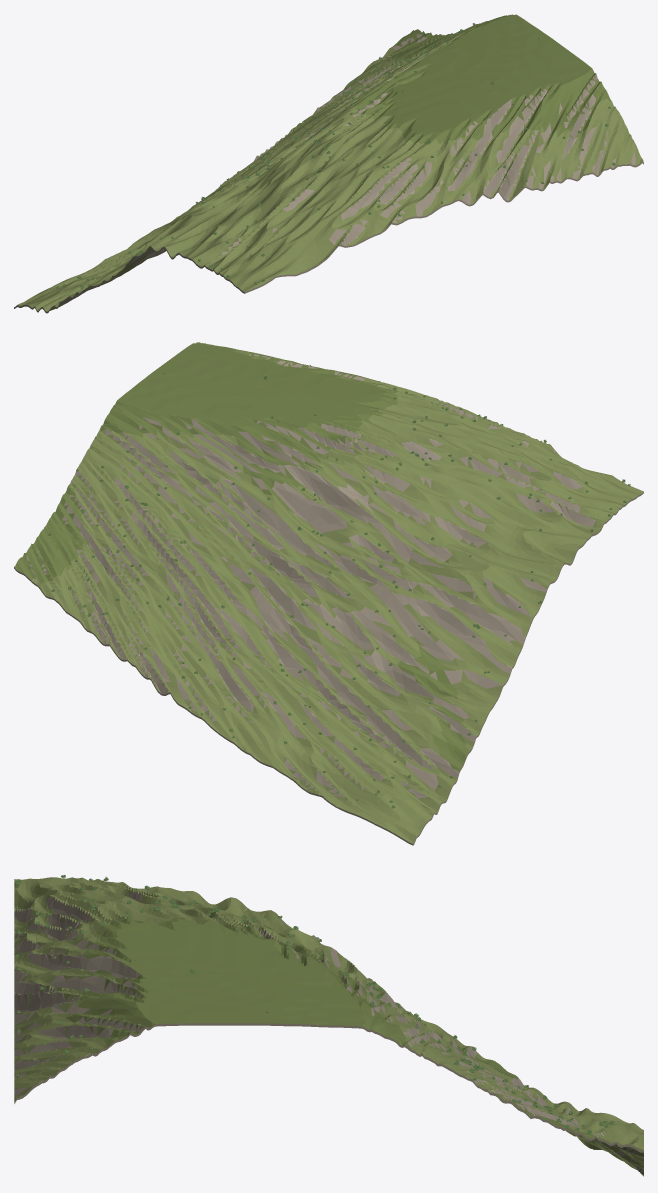
File: parca_+5_-6-yakin.glb
3 views of the same model, one above another, from view 1: azimuth 30°, elevation 25°; view 2: azimuth 150°, elevation 25°; view 3: azimuth 270°, elevation 25° (orthographic). The views are drawn at different scales.
Parts seen in each view (by area): view 1: parca_+5_-6_arazi, parca_+5_-6_bitkiler; view 2: parca_+5_-6_arazi, parca_+5_-6_bitkiler; view 3: parca_+5_-6_arazi, parca_+5_-6_bitkiler.
Part boxes in pixels (<box>): parca_+5_-6_arazi: <box>14,14,643,313</box>; parca_+5_-6_bitkiler: <box>56,23,615,302</box>; parca_+5_-6_arazi: <box>14,342,643,845</box>; parca_+5_-6_bitkiler: <box>48,351,630,825</box>; parca_+5_-6_arazi: <box>14,877,643,1176</box>; parca_+5_-6_bitkiler: <box>14,875,634,1153</box>.
Bounding box in the file's own units: 1003 × 662 × 1001.
